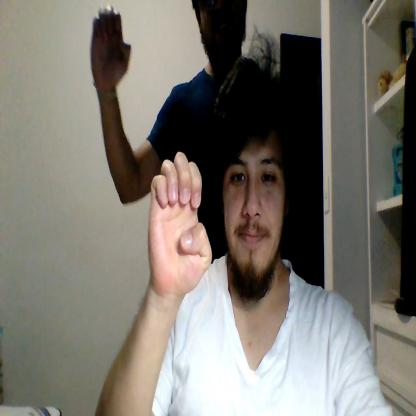E: (148, 154, 212, 296), (90, 4, 132, 90)
